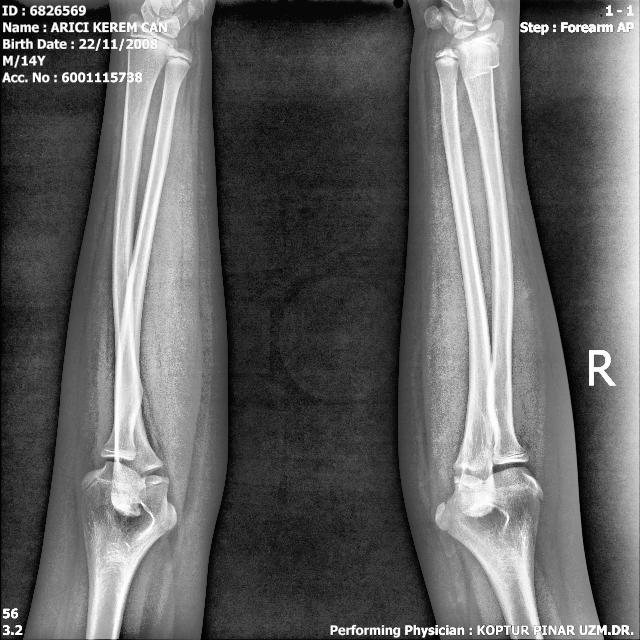Fracture: (461, 57, 505, 85)
